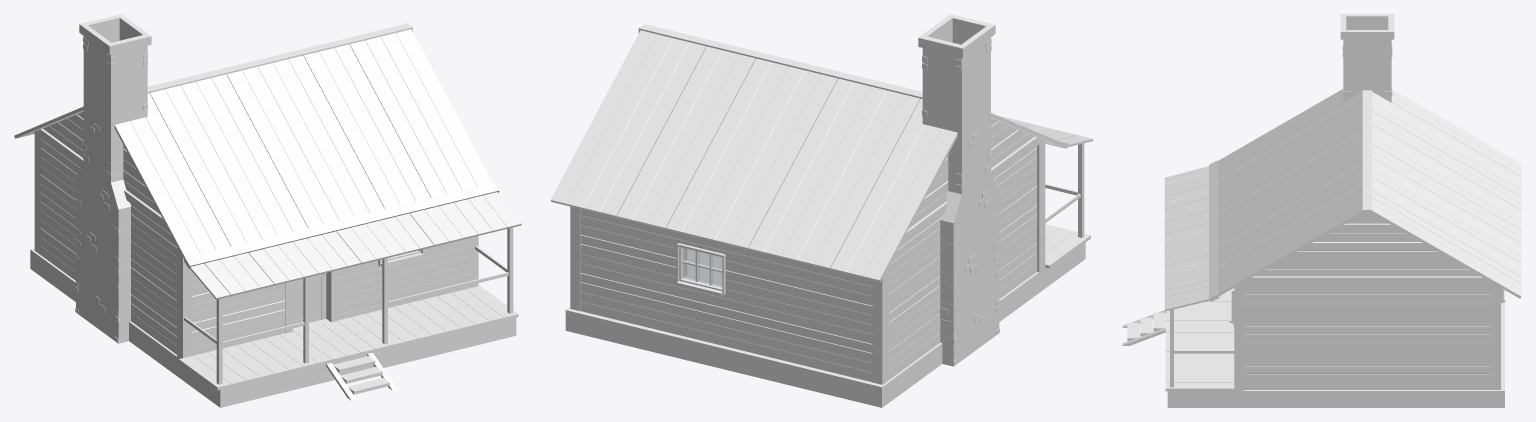
Rendered from Bld_Wooden_Cabin_01.glb.
3 views of the same model, side by side, from view 1: azimuth 30°, elevation 25°; view 2: azimuth 150°, elevation 25°; view 3: azimuth 270°, elevation 25° (orthographic). The views are drawn at different scales.
Parts seen in each view (by area): view 1: Bld_Wooden_Cabin_01, Bld_Wooden_Cabin_Door_01; view 2: Bld_Wooden_Cabin_01, (_ignore)_Bld_Wooden_Cabin_Windows_01; view 3: Bld_Wooden_Cabin_01.
Part boxes in pixels (x1=…): Bld_Wooden_Cabin_01: x1=14, y1=14, x2=521, y2=407; Bld_Wooden_Cabin_Door_01: x1=293, y1=273, x2=326, y2=324; Bld_Wooden_Cabin_01: x1=550, y1=14, x2=1093, y2=407; (_ignore)_Bld_Wooden_Cabin_Windows_01: x1=683, y1=248, x2=721, y2=287; Bld_Wooden_Cabin_01: x1=1122, y1=14, x2=1521, y2=407.
Size of the model in its own units: 8.22 by 7.3 by 10.15.
2 materials, 1 textured.
